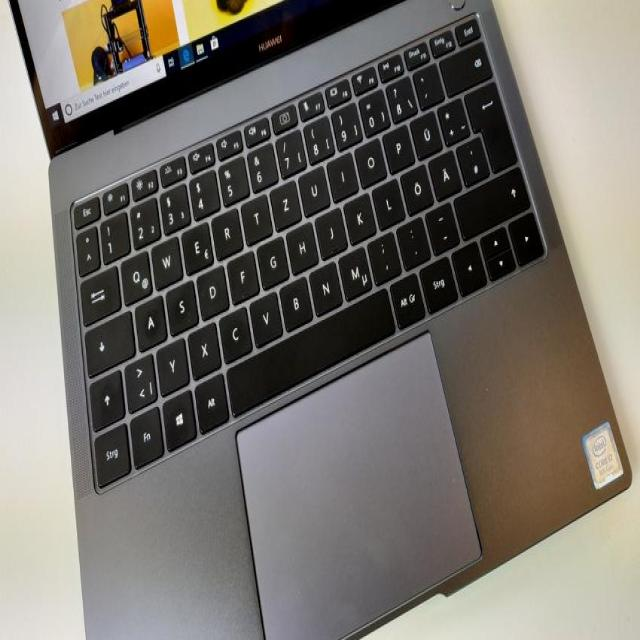0: (356, 83, 389, 131)
1: (98, 206, 129, 260)
2: (127, 192, 159, 244)
3: (157, 178, 189, 229)
4: (187, 164, 218, 215)
5: (215, 151, 248, 201)
6: (244, 138, 277, 186)
7: (273, 123, 305, 174)
8: (301, 110, 334, 159)
9: (329, 95, 361, 146)
a: (132, 291, 166, 347)
accent: (411, 58, 444, 105)
ae: (426, 145, 462, 194)
alt-left: (192, 368, 228, 430)
altgr-right: (387, 269, 425, 323)
b: (277, 272, 312, 327)
c: (216, 303, 252, 359)
caret: (74, 223, 98, 271)
comma: (365, 227, 400, 279)
d: (195, 260, 228, 316)
del: (437, 39, 491, 92)
e: (179, 217, 213, 270)
enter: (463, 76, 515, 166)
f: (225, 245, 259, 300)
g: (255, 232, 288, 284)
h: (284, 217, 317, 269)
hash: (454, 130, 488, 181)
i: (325, 146, 358, 197)
j: (313, 202, 347, 253)
k: (341, 188, 376, 240)
keyboard: (64, 4, 553, 501)
l: (370, 173, 404, 224)
less: (122, 348, 155, 408)
m: (336, 241, 371, 296)
minus: (423, 198, 459, 248)
n: (306, 256, 342, 311)
o: (353, 134, 387, 183)
oe: (399, 160, 433, 211)
p: (381, 119, 413, 169)
plus: (435, 94, 469, 141)
point: (394, 213, 430, 262)
q: (119, 247, 152, 302)
r: (210, 204, 243, 256)
s: (163, 276, 197, 331)
shift-left: (87, 366, 124, 427)
shift-lock: (82, 305, 133, 372)
shift-right: (451, 164, 528, 235)
space: (225, 284, 394, 418)
ss: (384, 70, 417, 118)
strg-left: (91, 418, 130, 483)
strg-right: (416, 252, 457, 307)
t: (239, 189, 272, 240)
tab: (78, 261, 120, 324)
u: (296, 161, 330, 212)
ue: (408, 106, 442, 154)
v: (247, 287, 282, 342)
w: (149, 232, 182, 287)
x: (186, 317, 220, 375)
y: (154, 334, 188, 393)
z: (268, 175, 301, 225)
